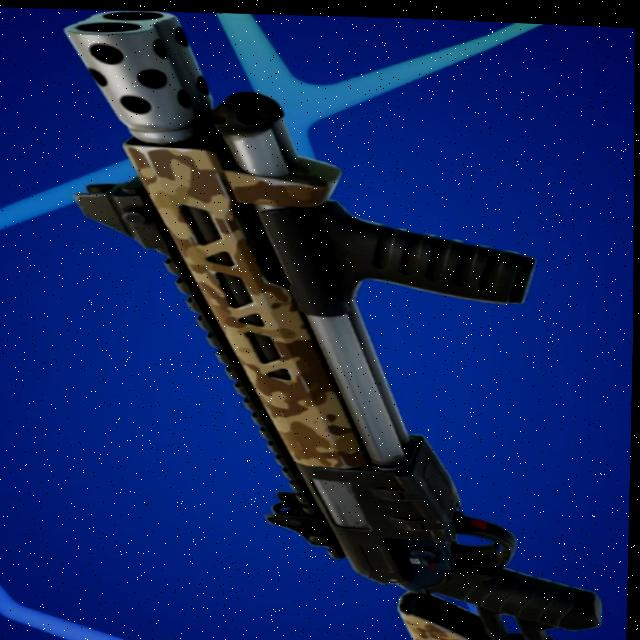firearm: (53, 2, 640, 640)
